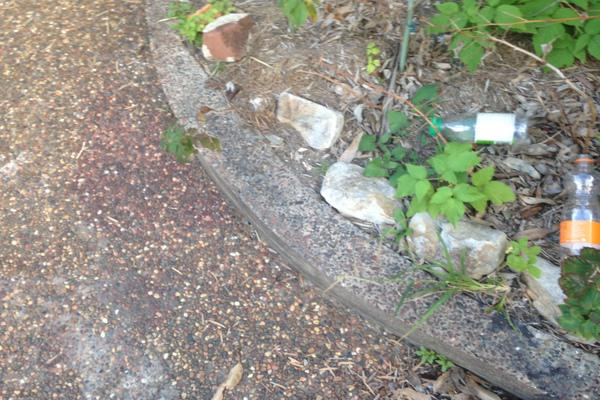Plastic Bottle: (560, 153, 600, 261), (429, 112, 528, 148)
